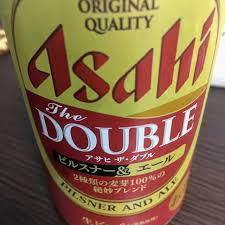beer: (1, 1, 224, 225)
